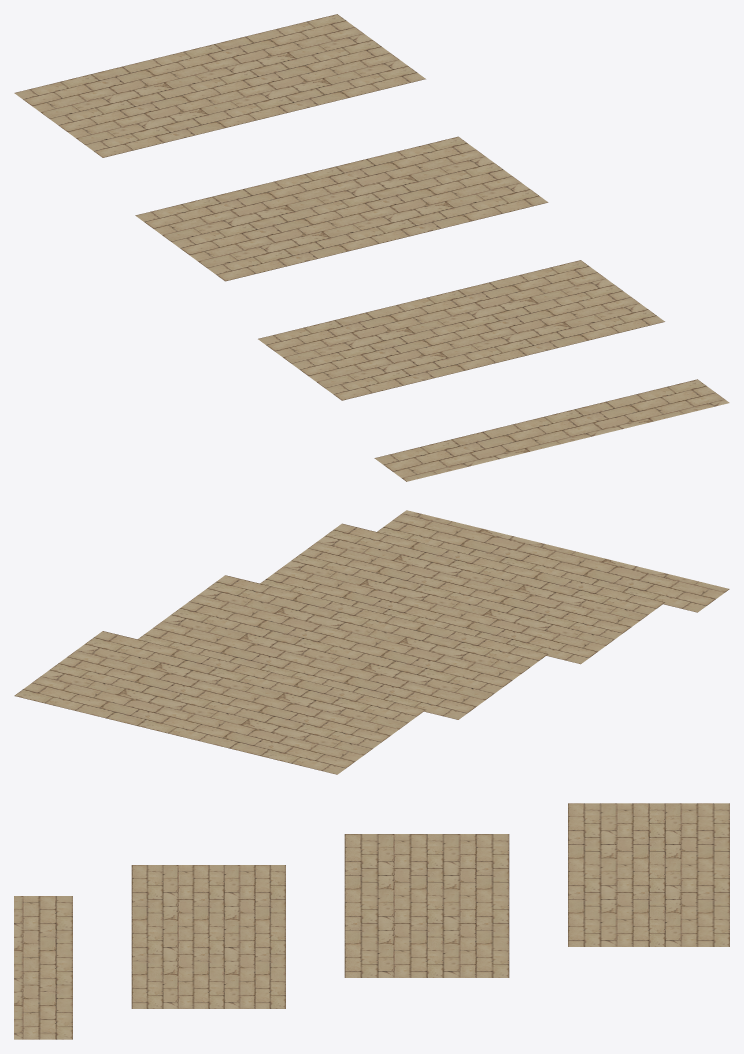
The model's file is Ground15_Build_LostTemple_002.FBX.
The picture shows the model from 3 angles, top to bottom: view 1: azimuth 30°, elevation 25°; view 2: azimuth 150°, elevation 25°; view 3: azimuth 270°, elevation 25°; orthographic projection. The views are drawn at different scales.
Visible parts, largest first — view 1: Ground15_Build_LostTemple_002; view 2: Ground15_Build_LostTemple_002; view 3: Ground15_Build_LostTemple_002.
Boxes of the visible parts, x1,y1,x2,y2 form: Ground15_Build_LostTemple_002: (14, 14, 729, 481); Ground15_Build_LostTemple_002: (14, 510, 729, 774); Ground15_Build_LostTemple_002: (14, 803, 729, 1039).
Size of the model in its own units: 1000 by 300 by 2103.
Materials: 1 (1 with a texture image).
